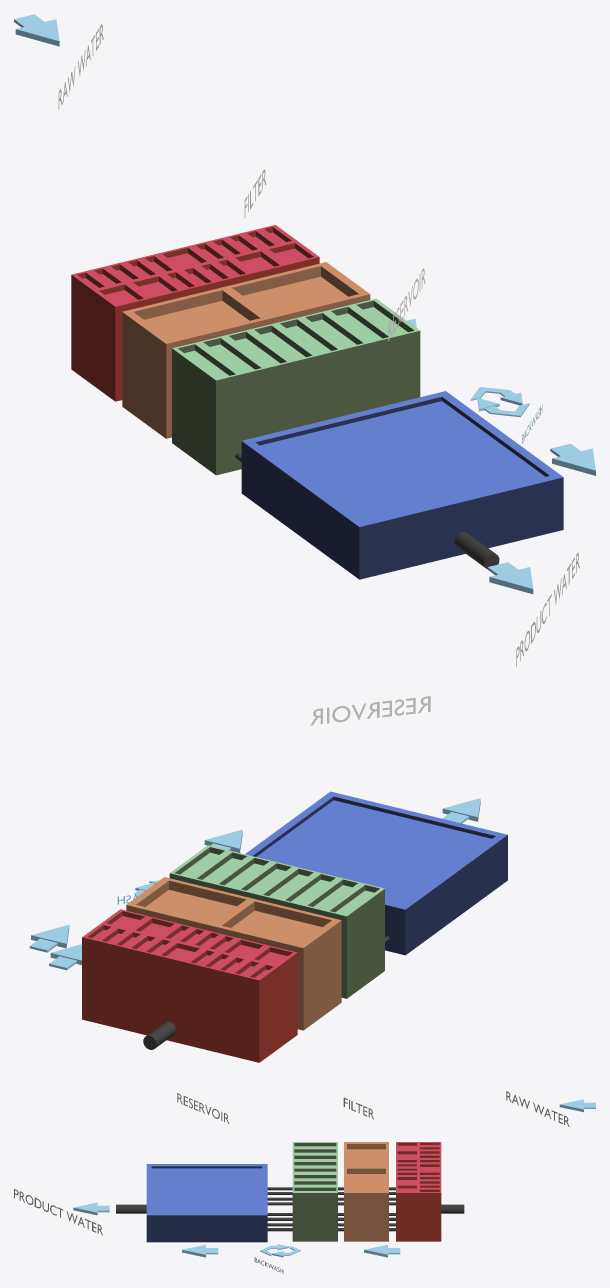
Rendered from WTP-DTI2.glb.
3 renders of one model, top to bottom at view 1: azimuth 30°, elevation 25°; view 2: azimuth 150°, elevation 25°; view 3: azimuth 270°, elevation 25°, orthographic. The views are drawn at different scales.
Parts seen in each view (by area): view 1: Cube, Cube.002, Cube.003, Cube.001, Cube.004, Cube.005, Cube.009, Cylinder.024; view 2: Cube.003, Cube, Cube.001, Cube.002, Text.001, Cube.005, Cube.004, Cube.006, Cube.009, Cylinder.025; view 3: Cube, Cube.002, Cube.003, Cube.001, Text, Cube.004, Cylinder.024, Text.002, Cube.009, Text.001, Cube.005, Cube.006.
Boxes of the visible parts, x1,y1,x2,y2 form: Cube: (241, 391, 563, 579); Cube.002: (172, 298, 420, 475); Cube.003: (71, 225, 319, 401); Cube.001: (122, 262, 370, 438); Cube.004: (487, 562, 533, 594); Cube.005: (14, 14, 59, 46); Cube.009: (550, 443, 595, 475); Cylinder.024: (454, 532, 499, 569); Cube.003: (82, 909, 297, 1062); Cube: (245, 791, 507, 955); Cube.001: (126, 877, 341, 1030); Cube.002: (169, 845, 384, 998); Text.001: (310, 696, 430, 725); Cube.005: (29, 924, 69, 952); Cube.004: (442, 798, 480, 823); Cube.006: (49, 944, 81, 970); Cube.009: (204, 829, 242, 852); Cylinder.025: (143, 1021, 175, 1049); Cube: (146, 1164, 267, 1242); Cube.002: (292, 1142, 337, 1241); Cube.003: (396, 1142, 441, 1241); Cube.001: (344, 1142, 388, 1241); Text: (14, 1189, 102, 1235); Cube.004: (73, 1202, 109, 1215); Cylinder.024: (116, 1204, 146, 1213); Text.002: (506, 1091, 569, 1126); Cube.009: (182, 1244, 218, 1257); Text.001: (177, 1093, 228, 1123); Cube.005: (559, 1099, 595, 1112); Cube.006: (364, 1244, 400, 1257).
Size of the model in its own units: 15.52 by 10.65 by 48.07.
